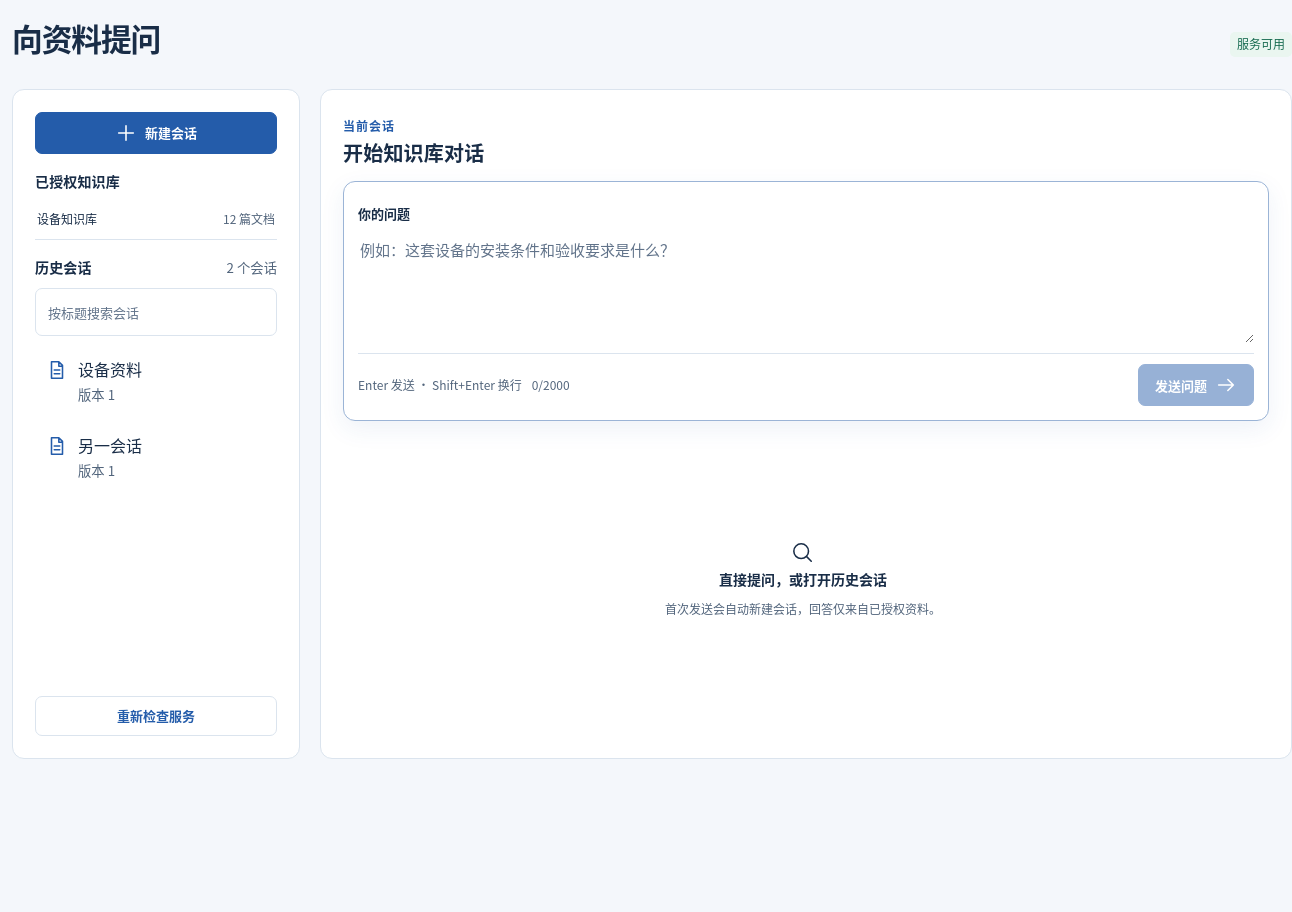
Test: ProductKnowledge › keeps the first question editable if session creation fails
Expected: the heading "直接提问，或打开历史会话" is shown, [719,569,887,589]
Type "不要丢掉的问题" into the text box labelled "你的问题" at (806, 288), box [358,233,1254,343]
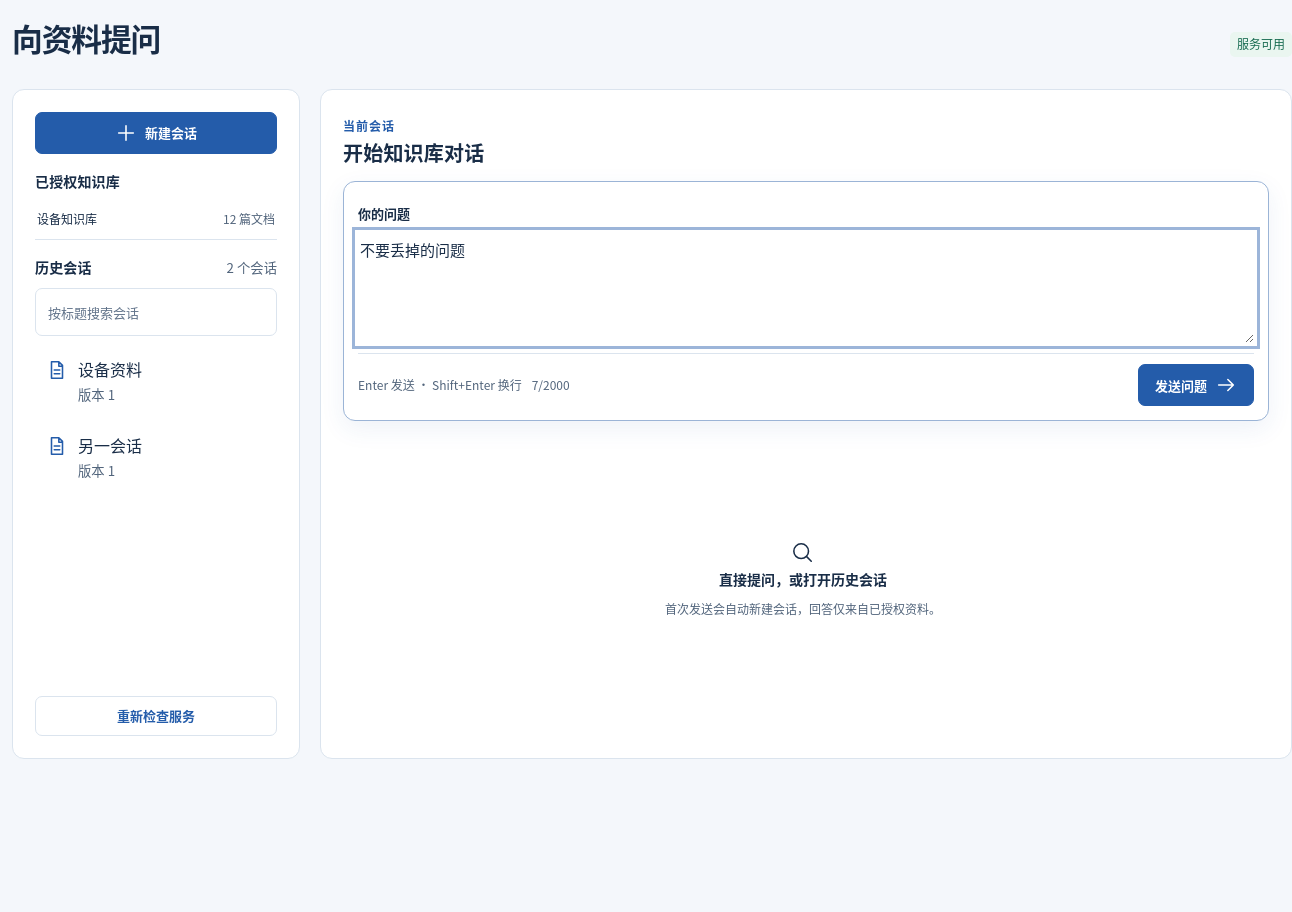
Click the button "发送问题" at (1196, 385), box [1138,364,1254,406]
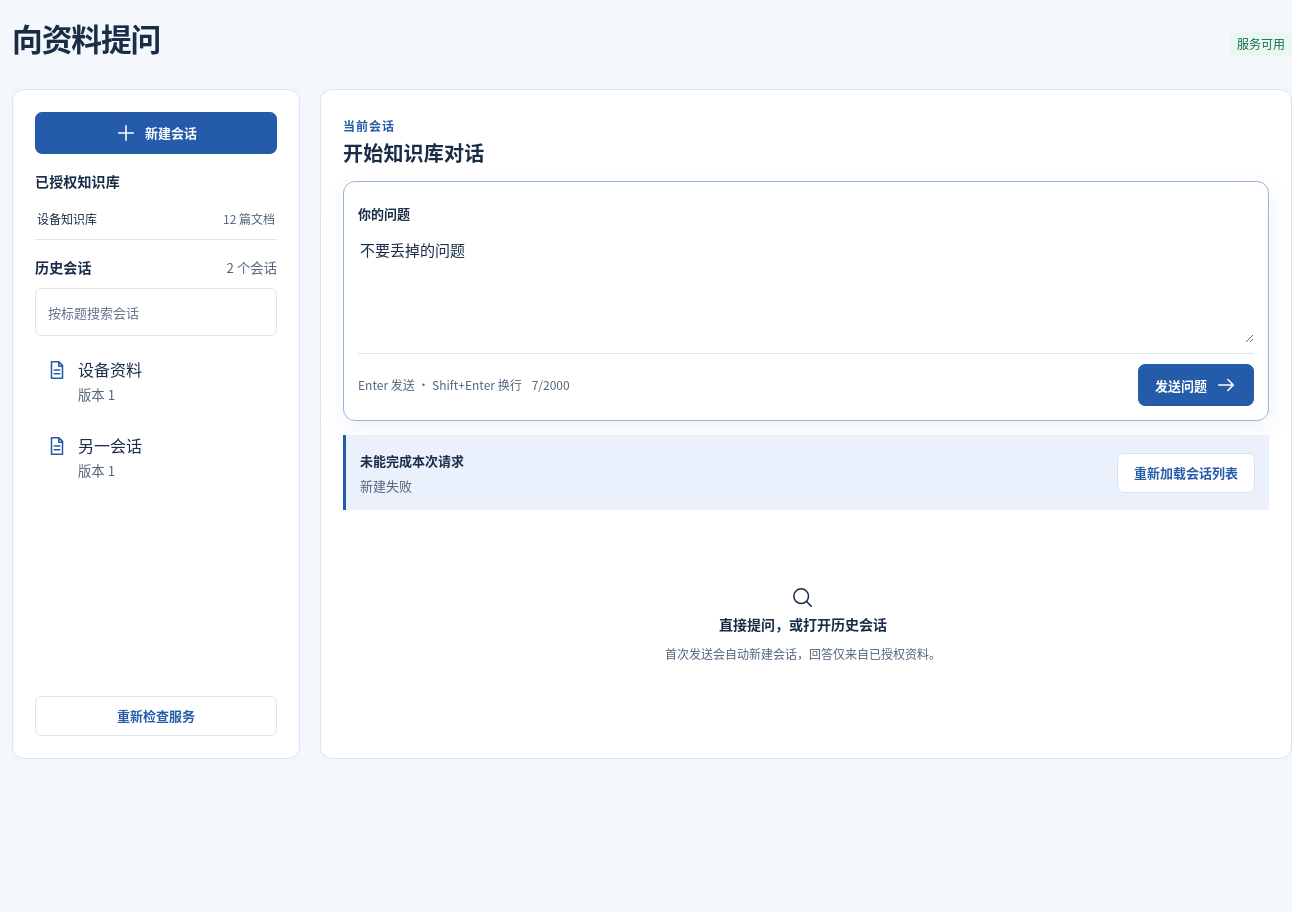
Expected: the text box labelled "你的问题" is enabled, [358,233,1254,343]
Expected: the text "新建失败" is shown, [360,476,412,495]
